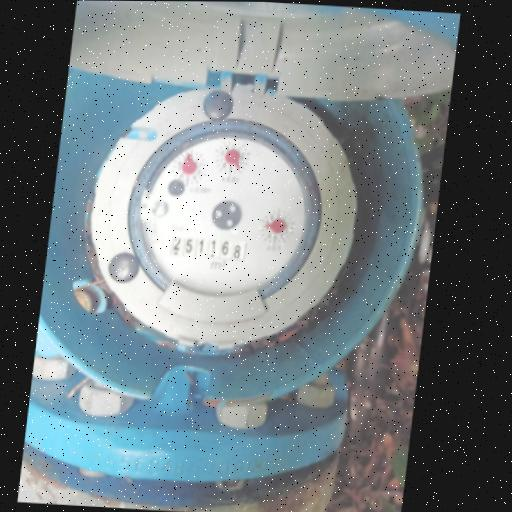1: (207, 239, 221, 257), (196, 240, 208, 258)
2: (171, 237, 185, 255)
5: (184, 237, 197, 257)
6: (220, 241, 234, 259)
8: (232, 242, 246, 260)
border_water_meter_number: (170, 236, 248, 260)
